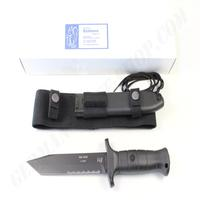knife: (20, 137, 176, 188)
